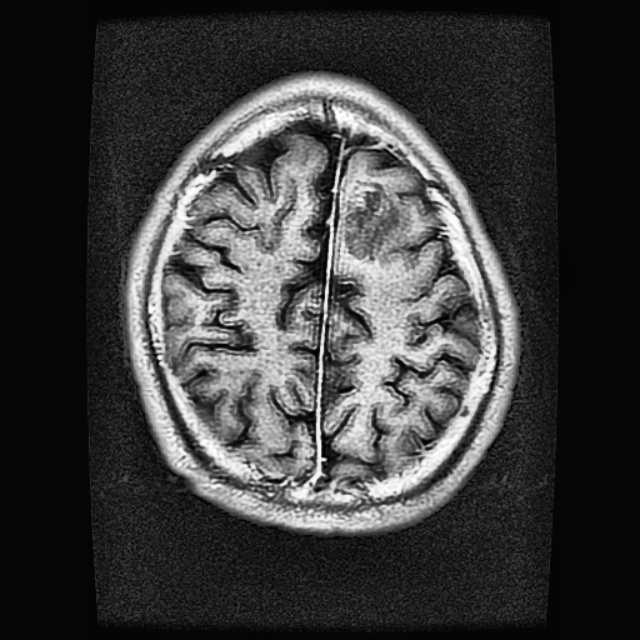Pituitary: (339, 179, 398, 263)
